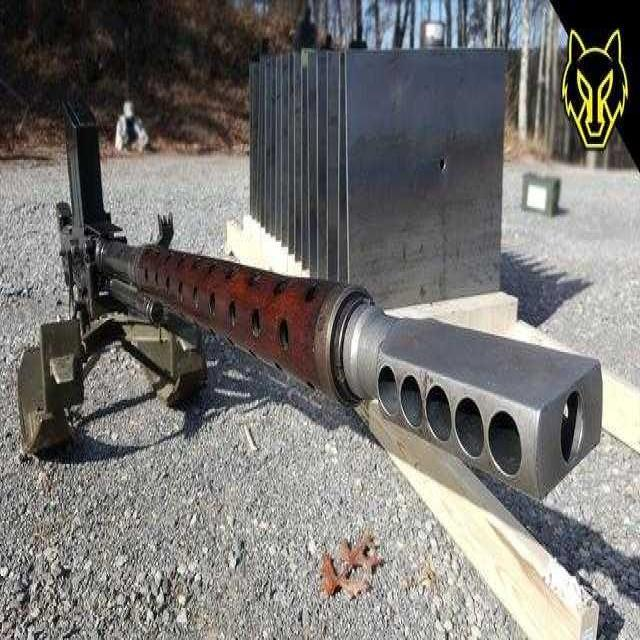weapon: (51, 96, 608, 526)
